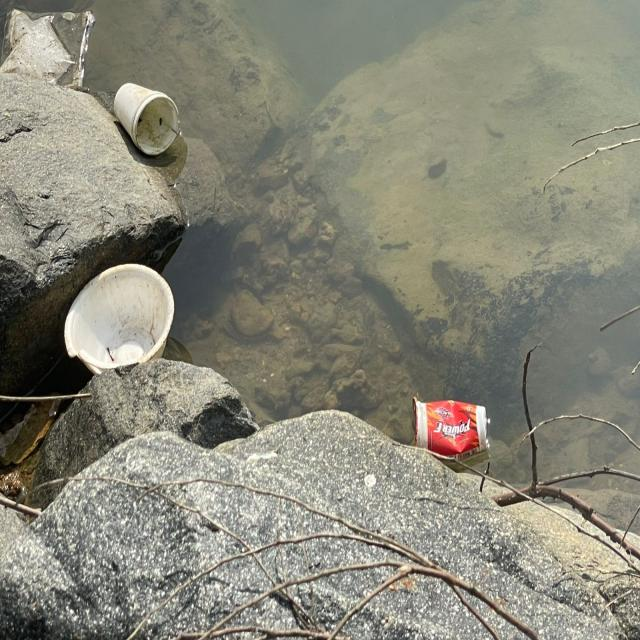Bungkus Minuman: (403, 381, 504, 467), (114, 67, 188, 162)
